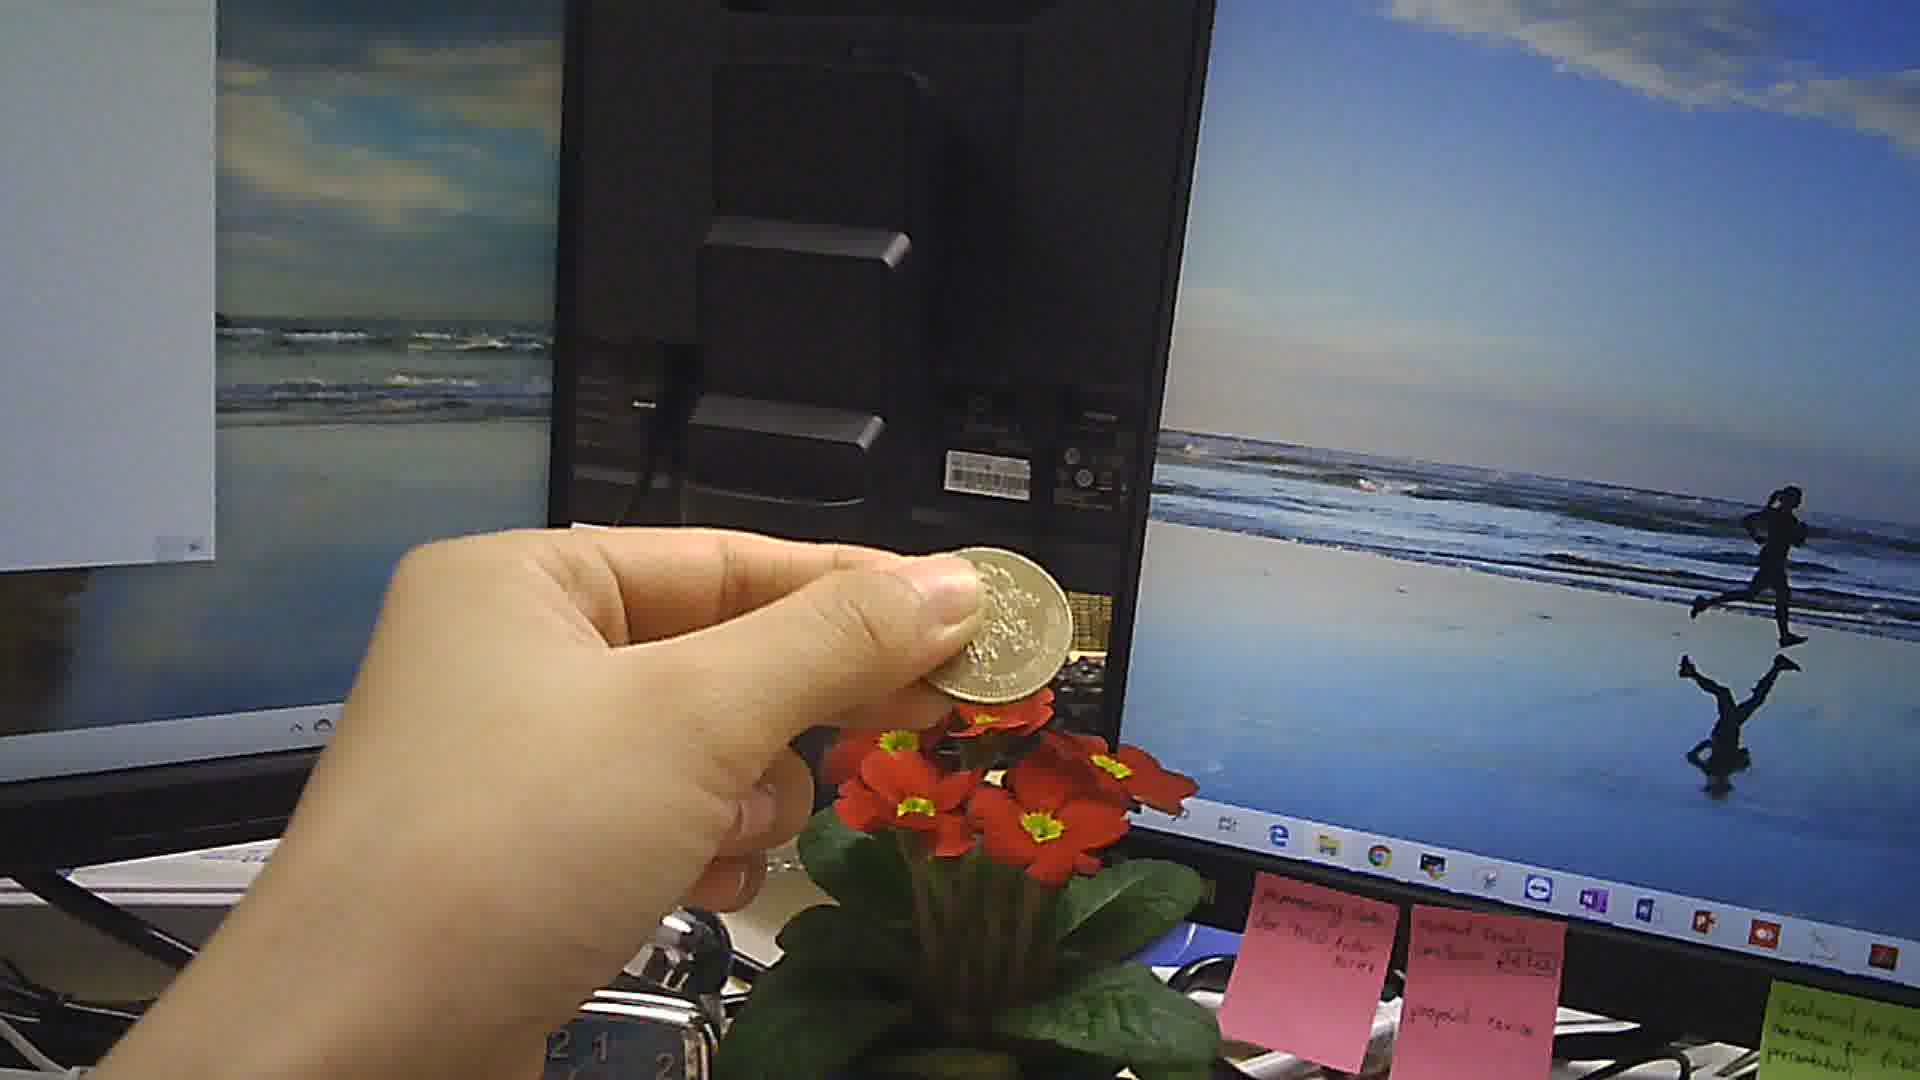500 Yen: (895, 535, 1091, 705)
